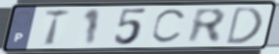1: (80, 7, 102, 48)
5: (113, 6, 151, 47)
C: (149, 7, 189, 46)
D: (223, 5, 265, 46)
R: (186, 7, 228, 46)
T: (42, 8, 73, 48)
